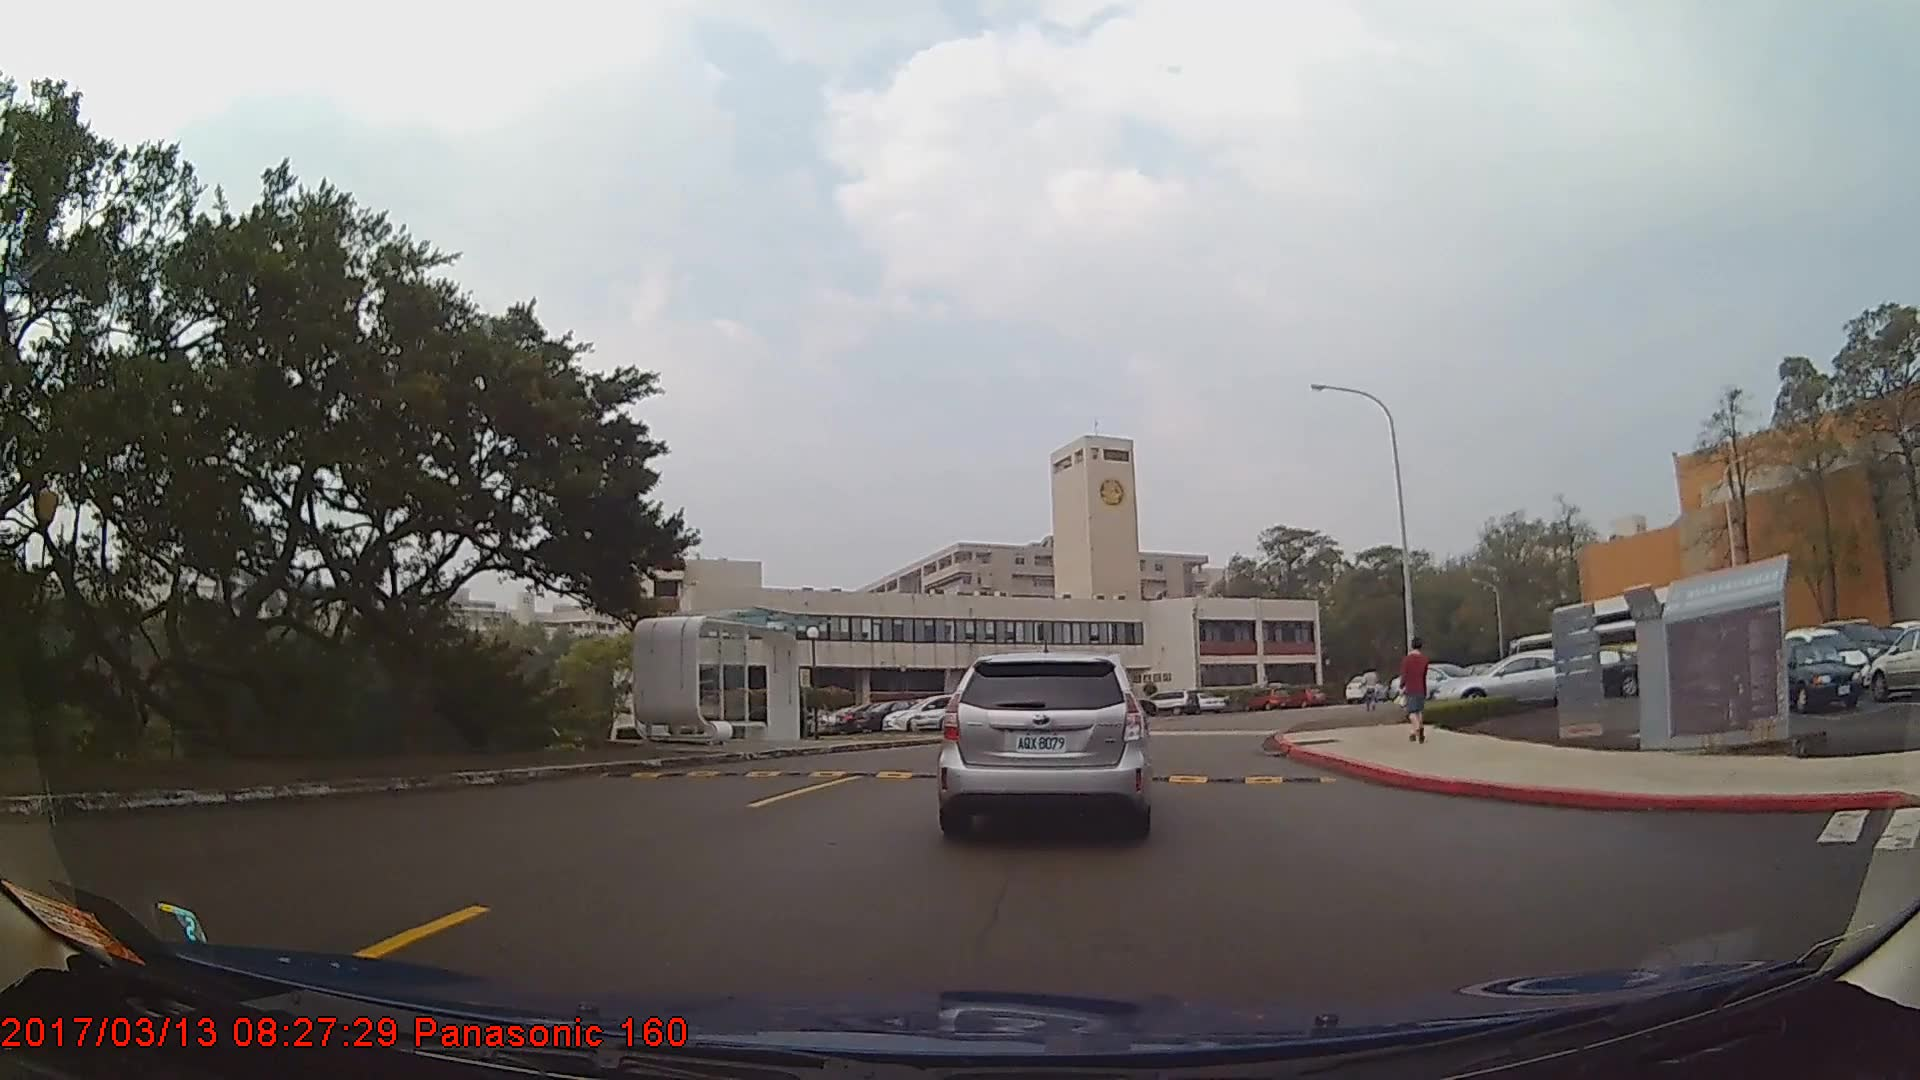pedestrian: (1400, 644, 1432, 750), (1360, 664, 1385, 714)
vehicle: (942, 645, 1147, 838), (1430, 651, 1602, 711), (1762, 641, 1861, 714), (1866, 626, 1920, 701), (1141, 690, 1201, 717)
